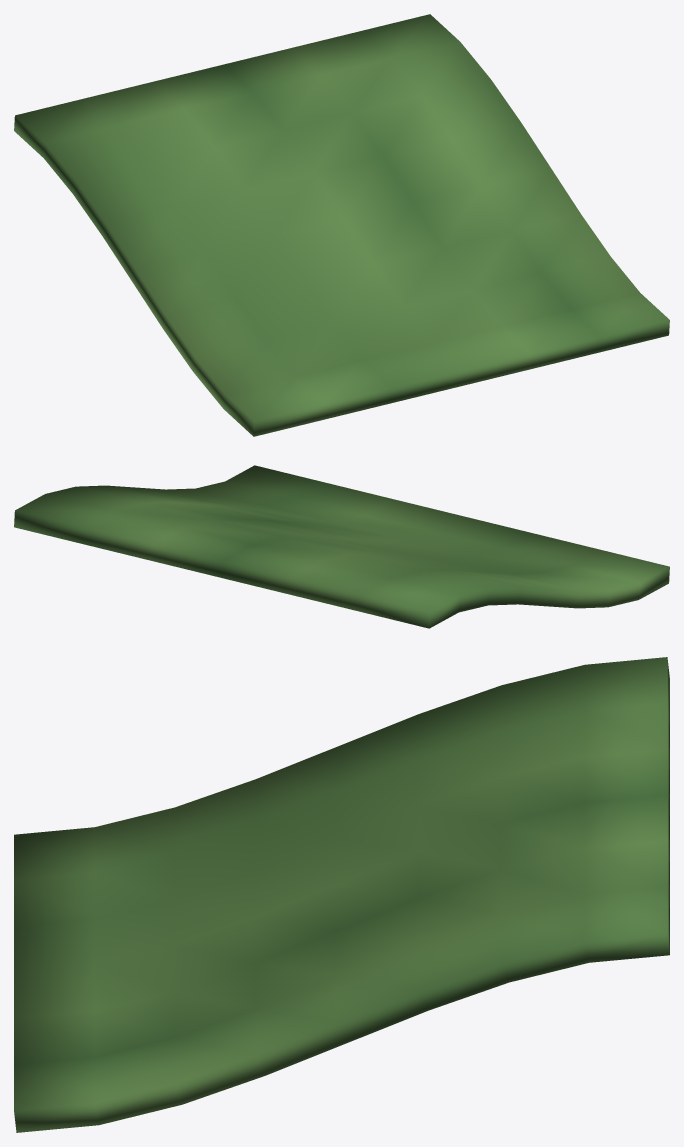
File: hill_slope_4m.glb
3 renders of one model, top to bottom at view 1: azimuth 30°, elevation 25°; view 2: azimuth 150°, elevation 25°; view 3: azimuth 270°, elevation 25°, orthographic. The views are drawn at different scales.
Parts seen in each view (by area): view 1: hill_slope_4m; view 2: hill_slope_4m; view 3: hill_slope_4m.
Part boxes in pixels (x1,y1,x2,y2): hill_slope_4m: (14, 14, 669, 436); hill_slope_4m: (14, 465, 669, 628); hill_slope_4m: (14, 657, 669, 1132).
Size of the model in its own units: 4 by 1.35 by 4.02.
